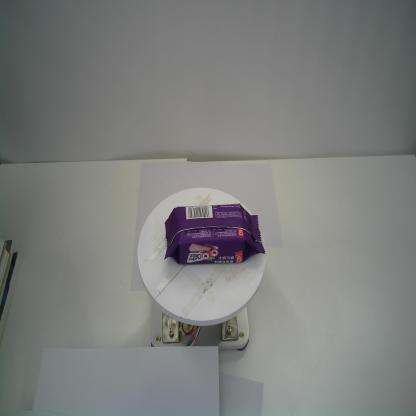Dessert: (164, 203, 266, 265)
